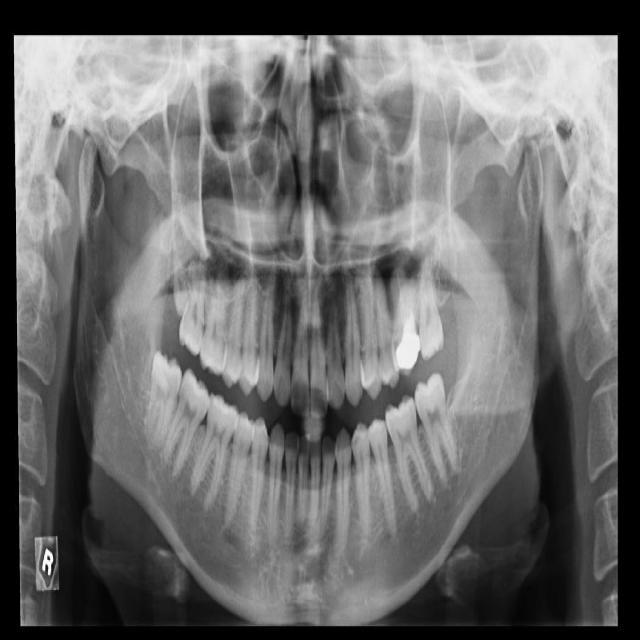3M ESPE Implant: (168, 250, 191, 315)
52: (392, 334, 424, 376)
73: (389, 266, 418, 349), (602, 602, 612, 610)
BioHorizons Implant: (417, 248, 444, 362)
Blue Sky Bio Implant: (410, 371, 462, 486)
Caries: (177, 259, 208, 354)
Implant: (159, 369, 216, 481)
Keystone Dental Implant: (144, 349, 185, 446)
